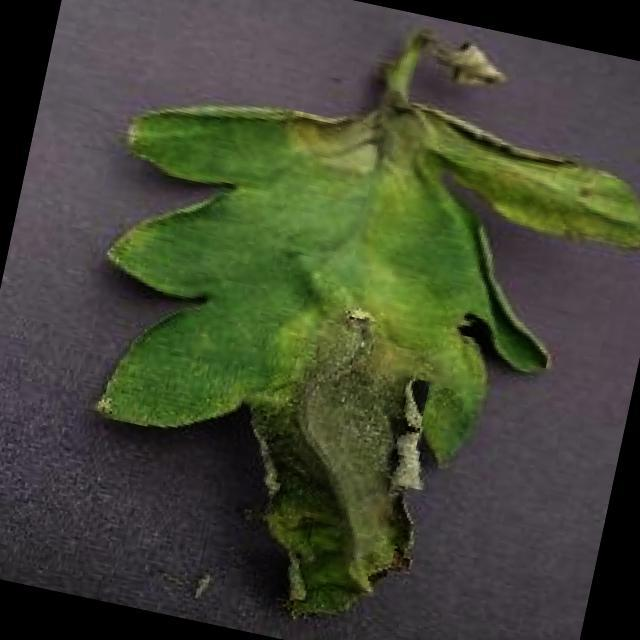Tomato late blight leaf: (33, 36, 640, 640)
